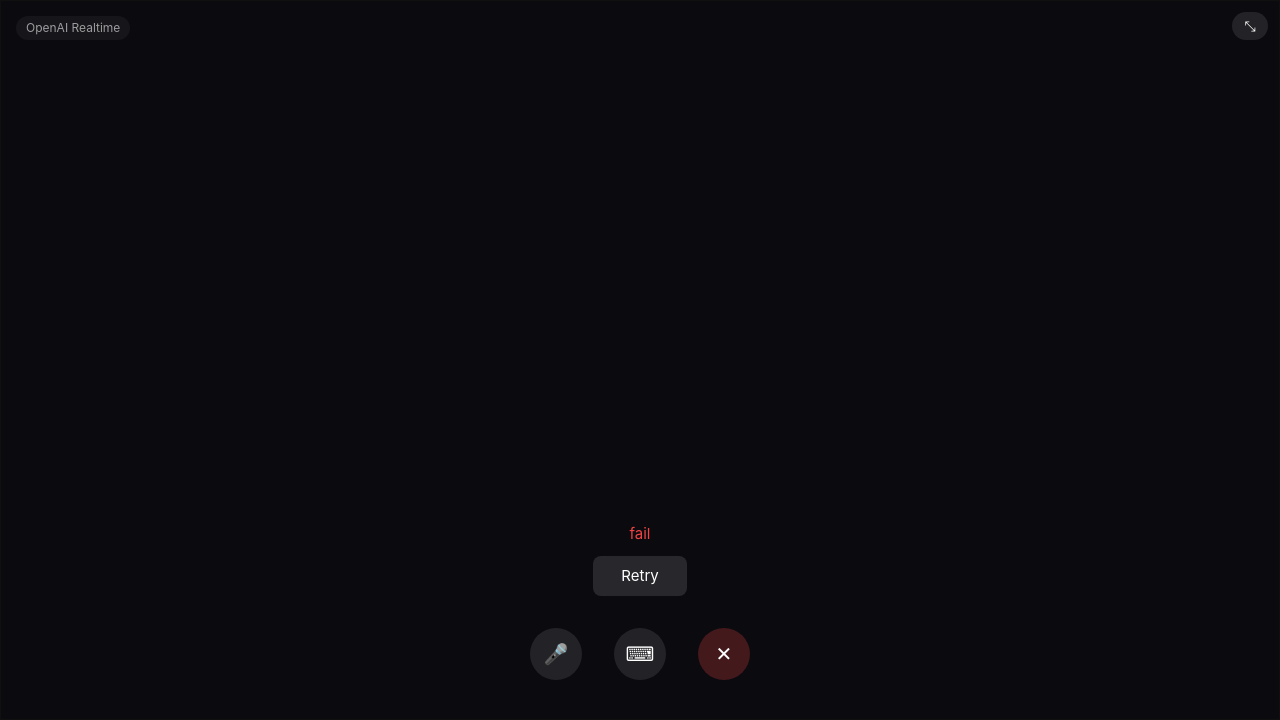
VoiceFullscreen › retry button resets error state and sends voice_session_start
Click the button with test id "retry-button" at (640, 576), box top-left (593, 556), bottom-right (687, 596)
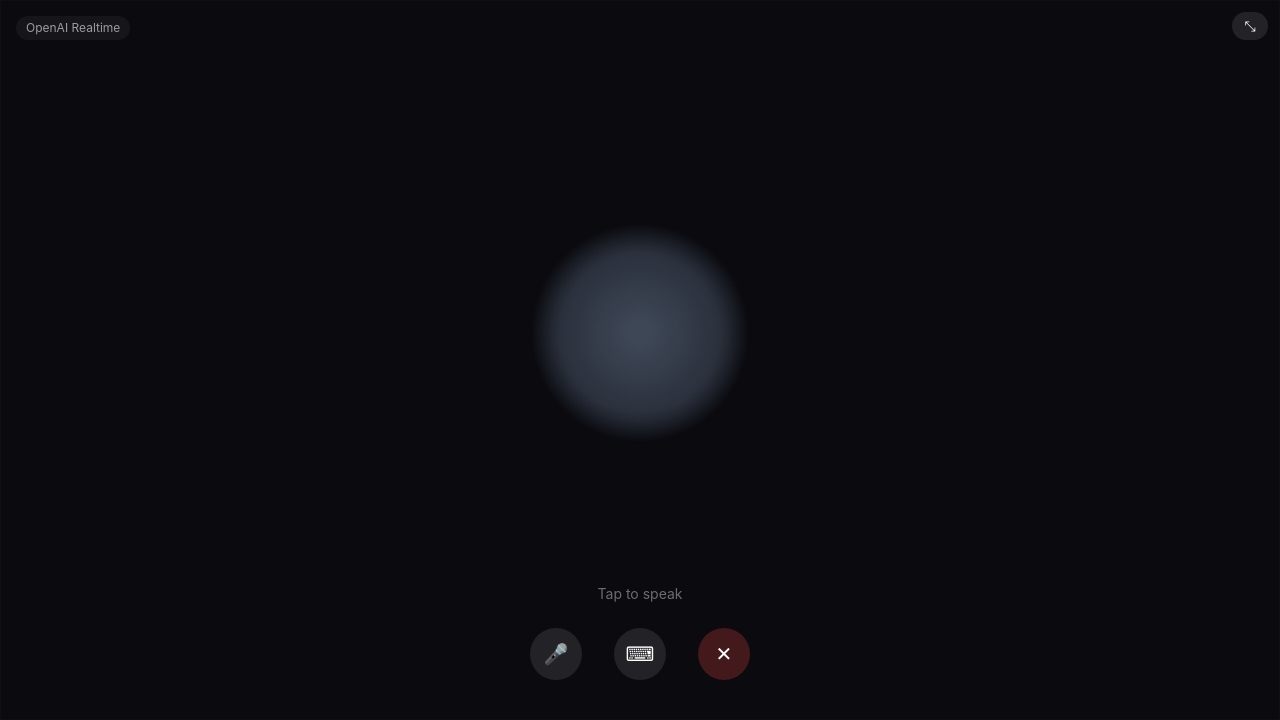
expect the element with test id "error-surface" is gone: met
